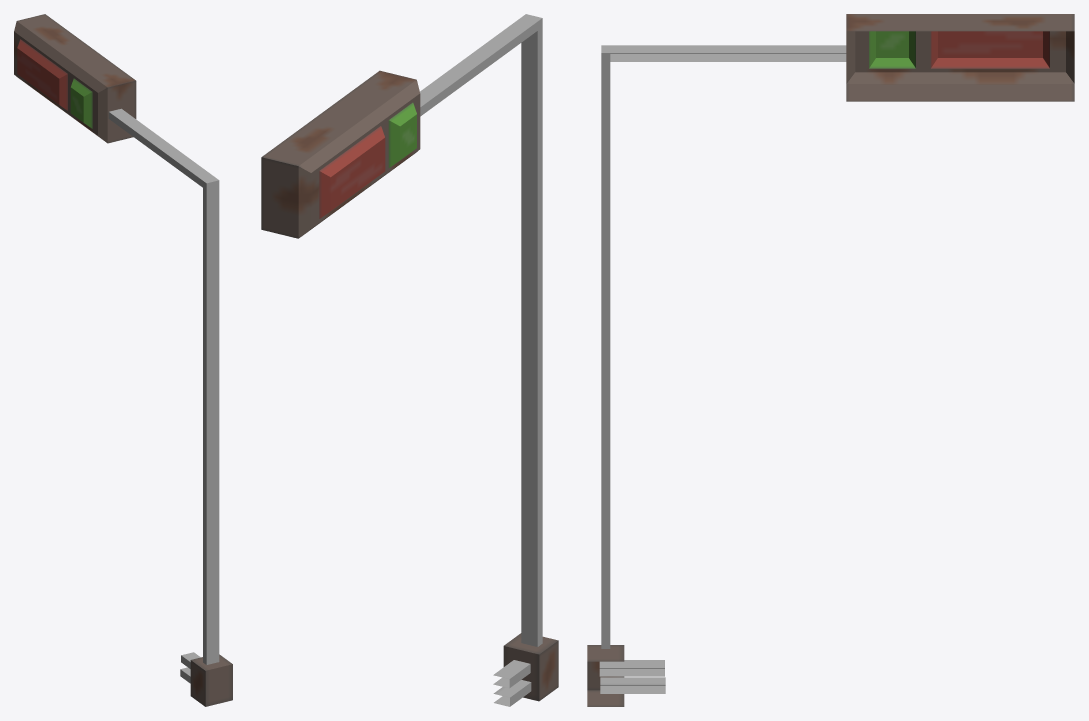
File: obj_doorLight.fbx
3 renders of one model, left to right at view 1: azimuth 30°, elevation 25°; view 2: azimuth 150°, elevation 25°; view 3: azimuth 270°, elevation 25°, orthographic. The views are drawn at different scales.
Parts seen in each view (by area): view 1: obj_doorLight; view 2: obj_doorLight; view 3: obj_doorLight.
Boxes of the visible parts, x1,y1,x2,y2 form: obj_doorLight: (14,14,232,706); obj_doorLight: (261,14,558,706); obj_doorLight: (587,14,1074,706).
Bounding box in the file's own units: 9.83 × 125 × 81.46.
